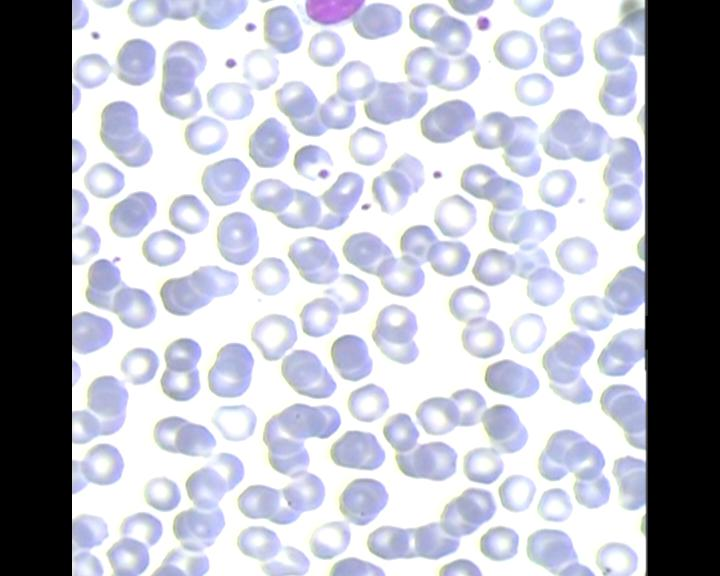lymp: (292, 0, 367, 32)
